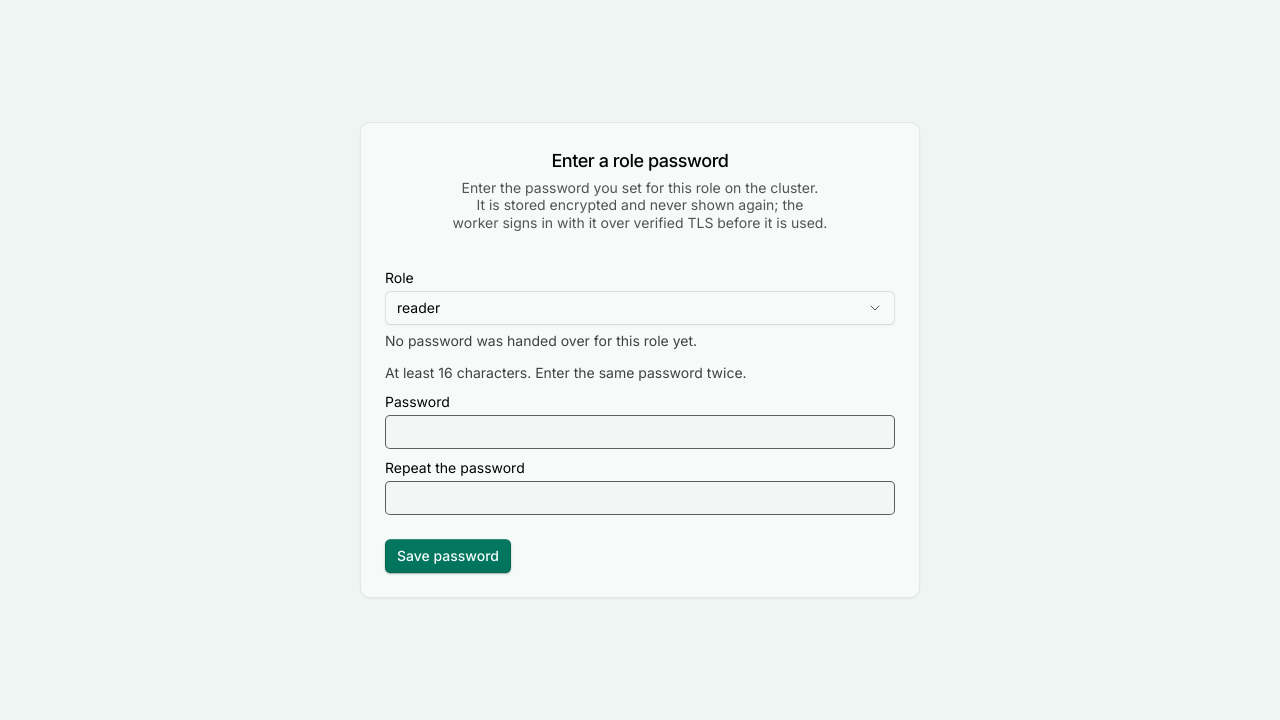
Test: the credentials hand-off › asks for a fresh proof and sends the same password once more, with the fields still empty
expect the heading "Enter a role password" is shown: met, box [552,147,729,175]
Step 1. Type "tangerine fjord radiator 42" into the password field with id "credential-password" → (640, 432), box [385,415,895,449]
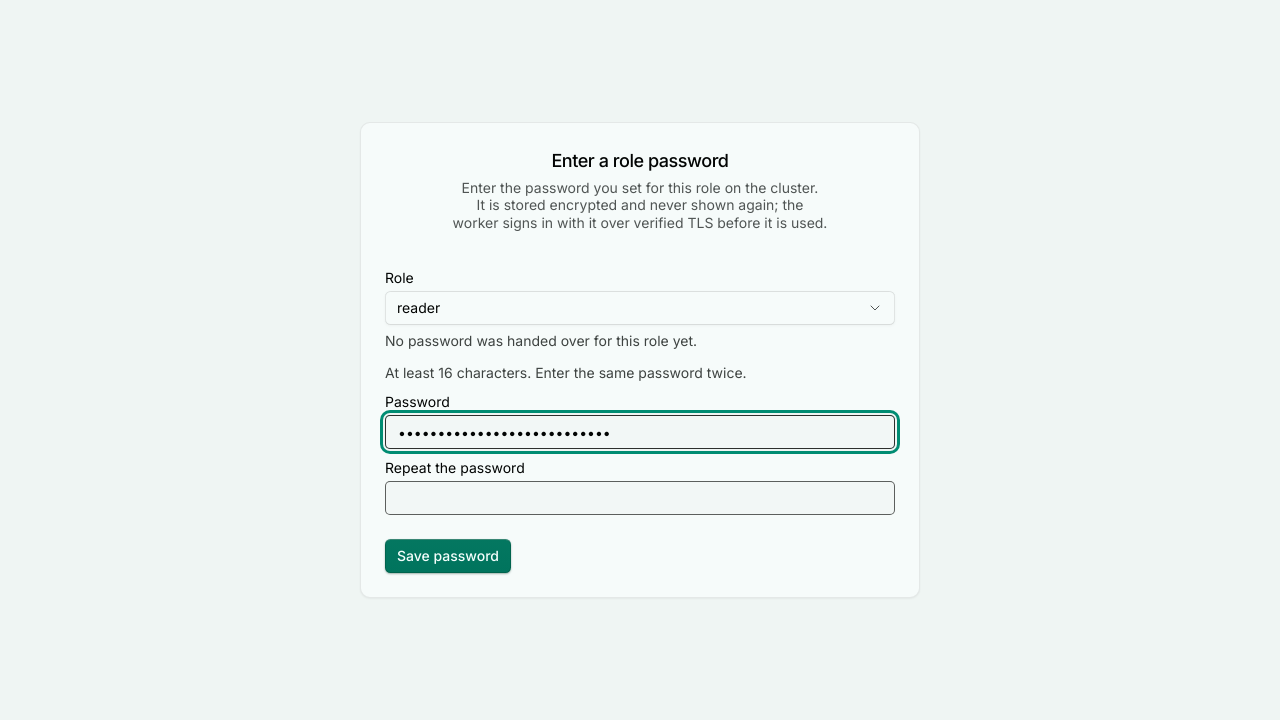
Step 2. Type "tangerine fjord radiator 42" into the password field with id "credential-confirm" → (640, 498), box [385,481,895,515]
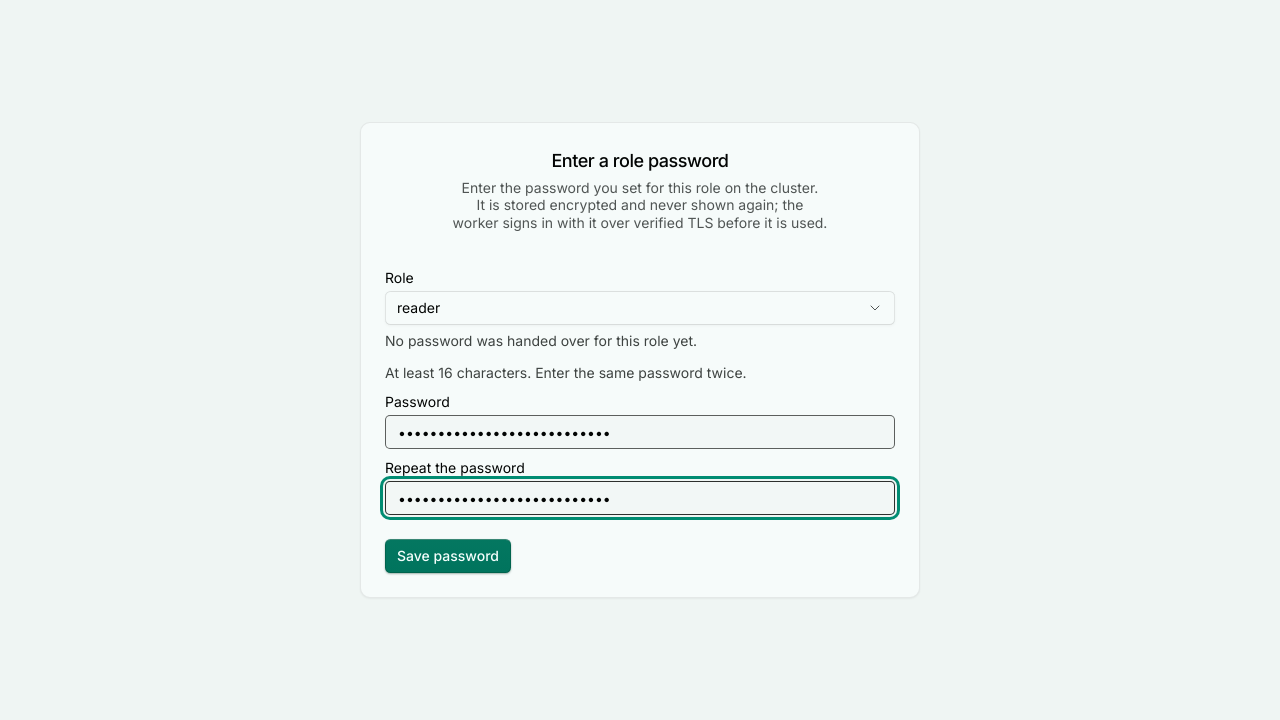
Step 3. Click the button "Save password" → (448, 556), box [385,539,511,573]
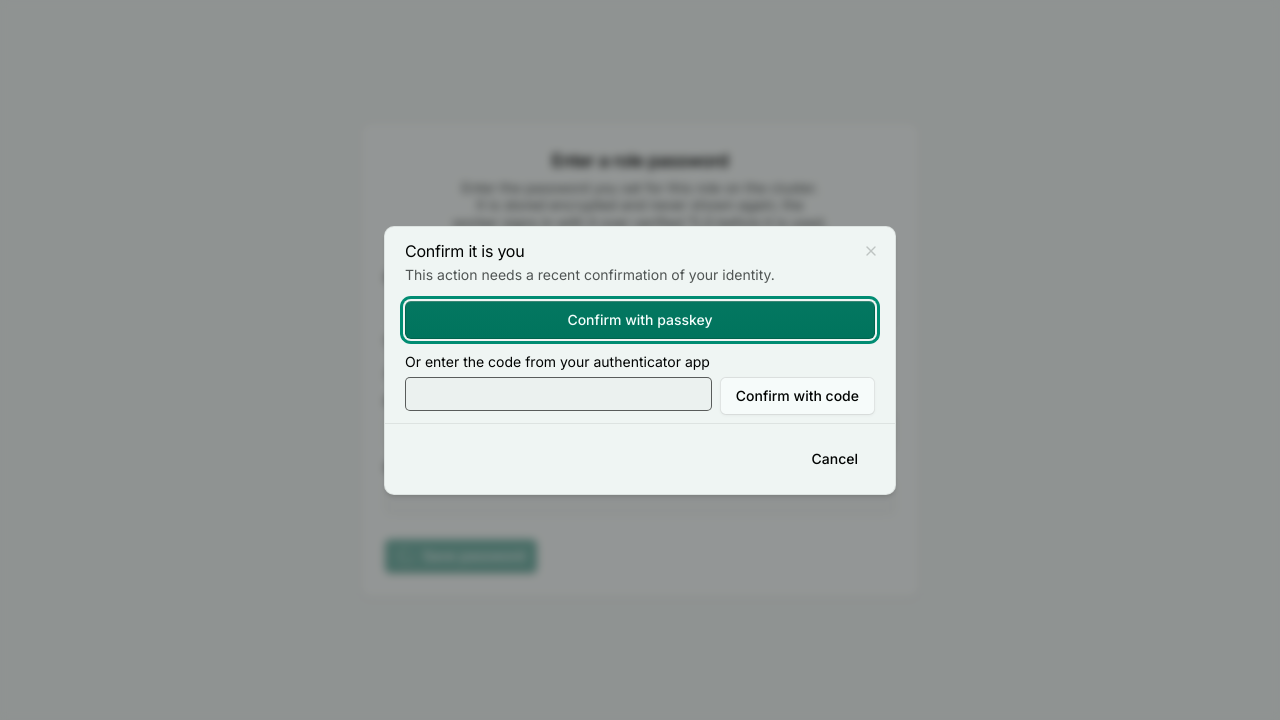
expect the password field with id "credential-password" is empty: met, box [385,415,895,449]
Step 4. Type "123456" into the field labelled "Or enter the code from your authenticator app" → (558, 394), box [405,376,712,410]
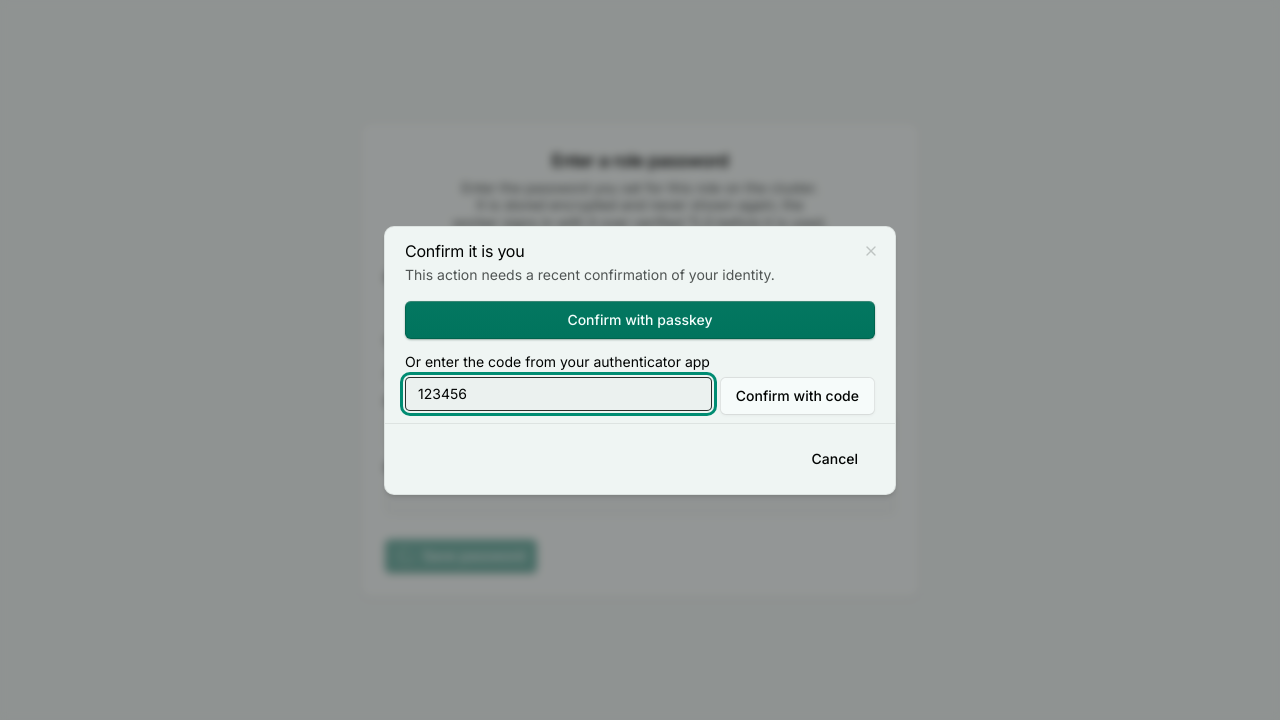
Step 5. Click the button "Confirm with code" → (797, 396), box [720,376,875,414]
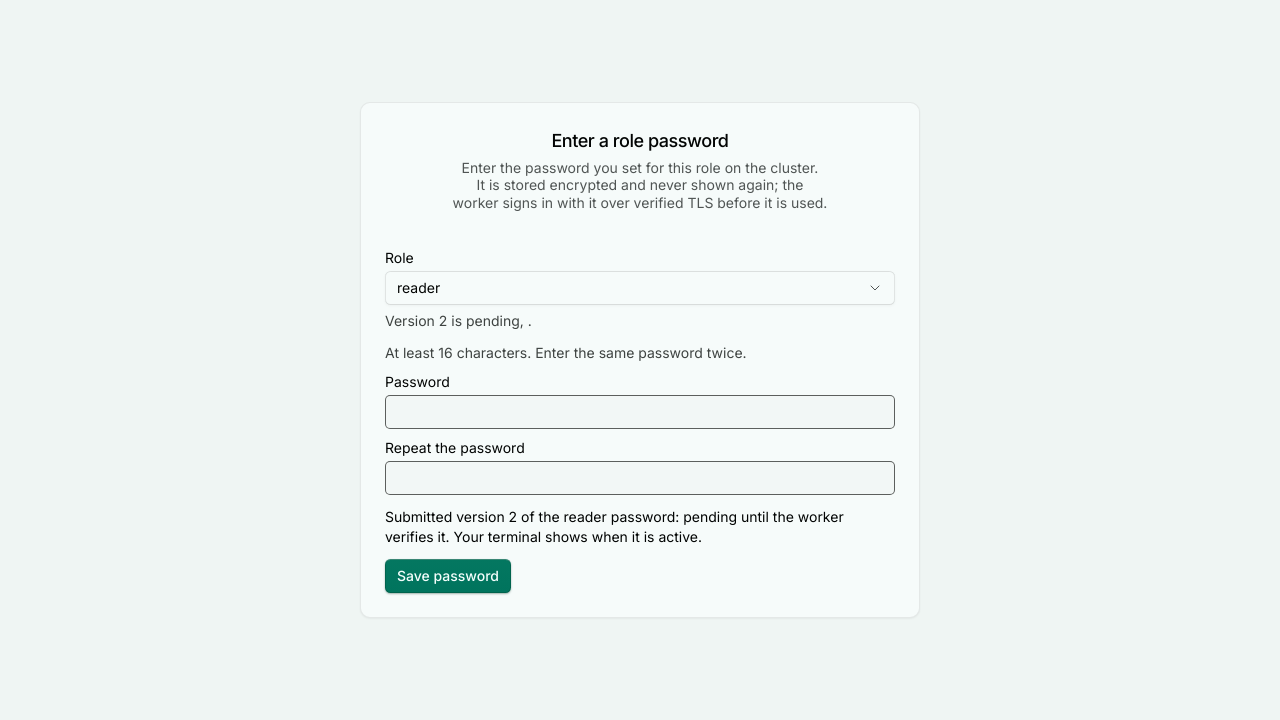
expect the text "Submitted version 2" is shown: met, box [385,508,844,545]
